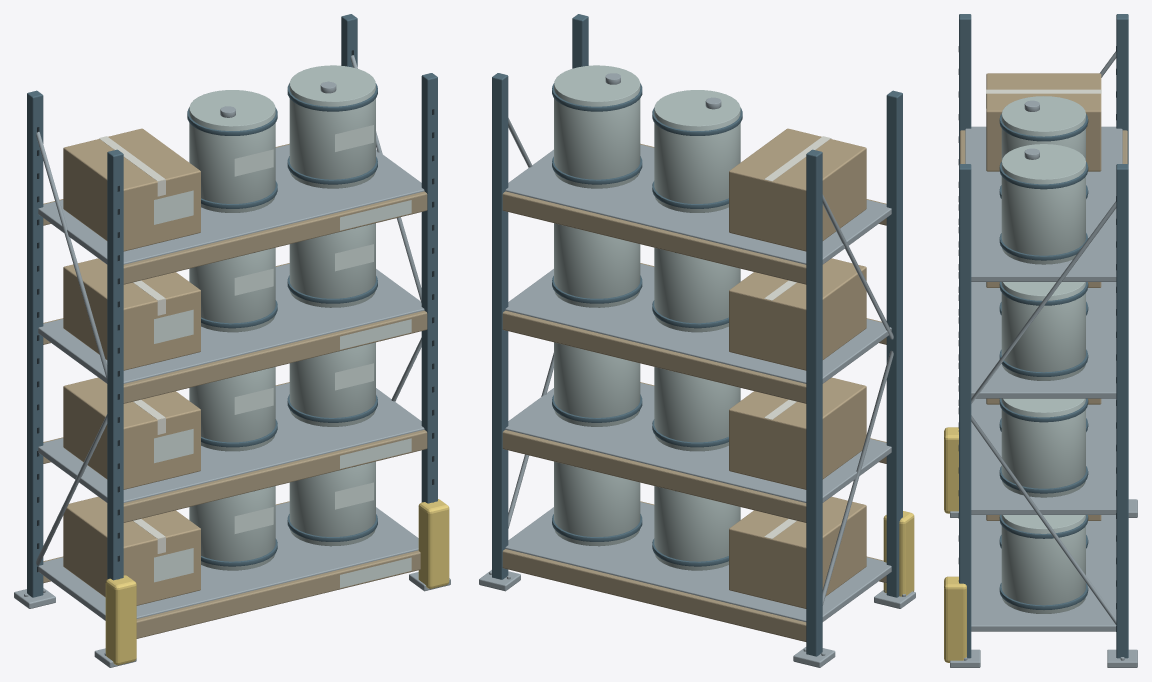
File: OD_WarehouseRack_2.fbx
3 renders of one model, left to right at view 1: azimuth 30°, elevation 25°; view 2: azimuth 150°, elevation 25°; view 3: azimuth 270°, elevation 25°, orthographic. The views are drawn at different scales.
Visible parts, largest first — view 1: OD_WarehouseRack_2; view 2: OD_WarehouseRack_2; view 3: OD_WarehouseRack_2.
Boxes of the visible parts, x1,y1,x2,y2 form: OD_WarehouseRack_2: (14,14,450,667); OD_WarehouseRack_2: (479,14,915,667); OD_WarehouseRack_2: (944,14,1137,667).
Bounding box in the file's own units: 201 × 285 × 101.
